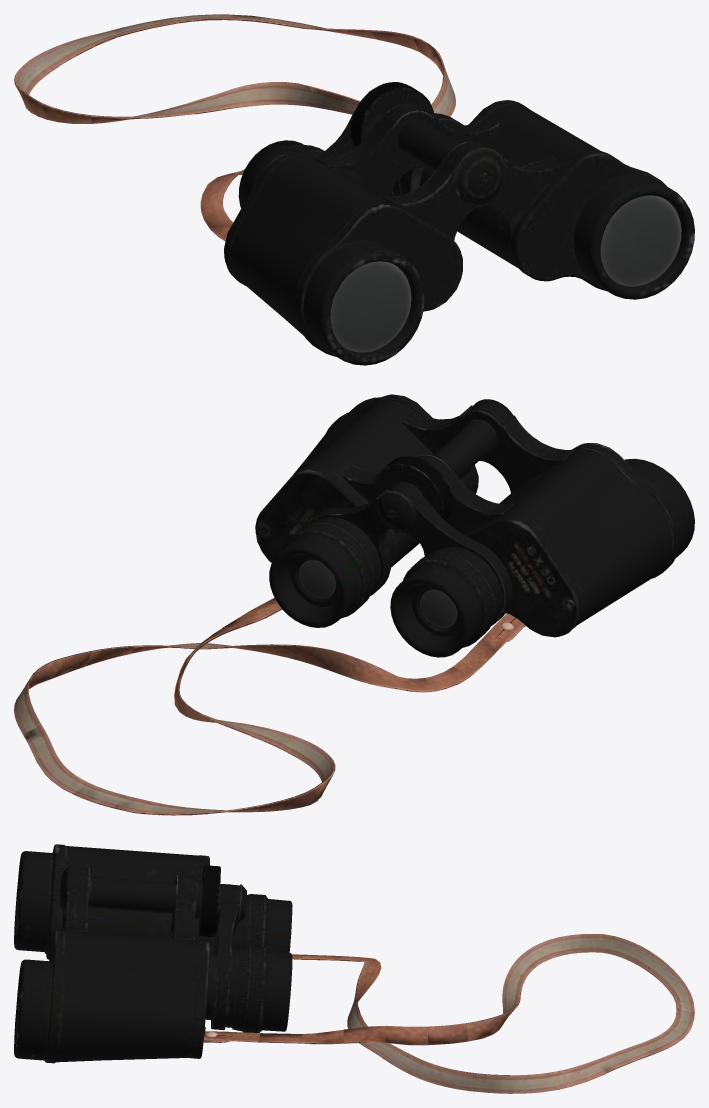
Rendered from ph_binoculars.glb.
3 renders of one model, top to bottom at view 1: azimuth 30°, elevation 25°; view 2: azimuth 150°, elevation 25°; view 3: azimuth 270°, elevation 25°, orthographic. The views are drawn at different scales.
Parts seen in each view (by area): view 1: binoculars_left; view 2: binoculars_left; view 3: binoculars_left.
Part boxes in pixels (<box>): binoculars_left: <box>14,14,694,365</box>; binoculars_left: <box>14,394,694,815</box>; binoculars_left: <box>14,844,694,1093</box>.
Size of the model in its own units: 0.1669 by 0.0662 by 0.288.
2 materials, 2 textured.
